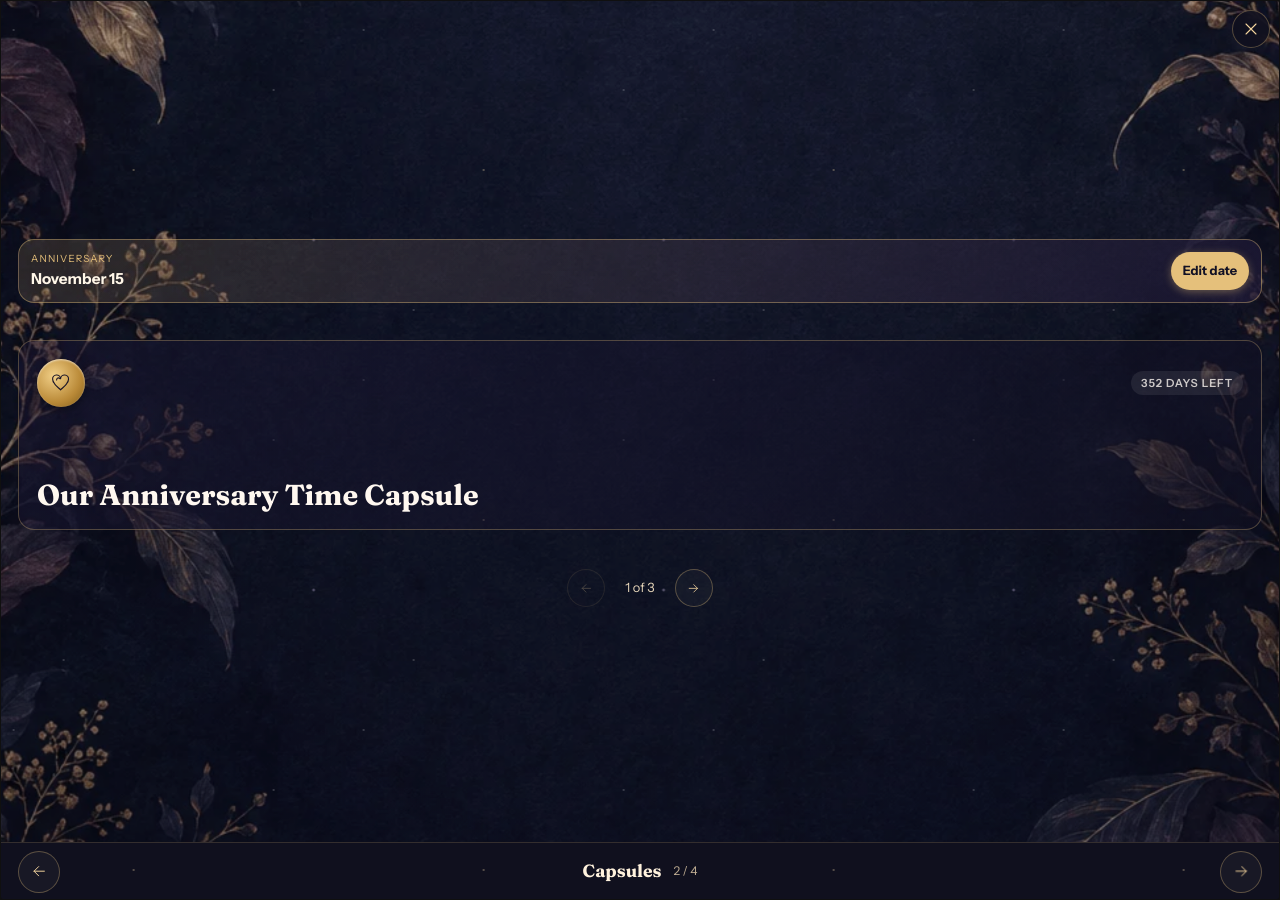
Scenario: MilestonesHub (Screen 7: Milestones & Year-in-Review Hub) › swipes the full page to the next Vault section from inside its current panel
Press the mouse on the element with class "time-capsule-card" at coordinates (640, 435), box [18,340,1262,530]
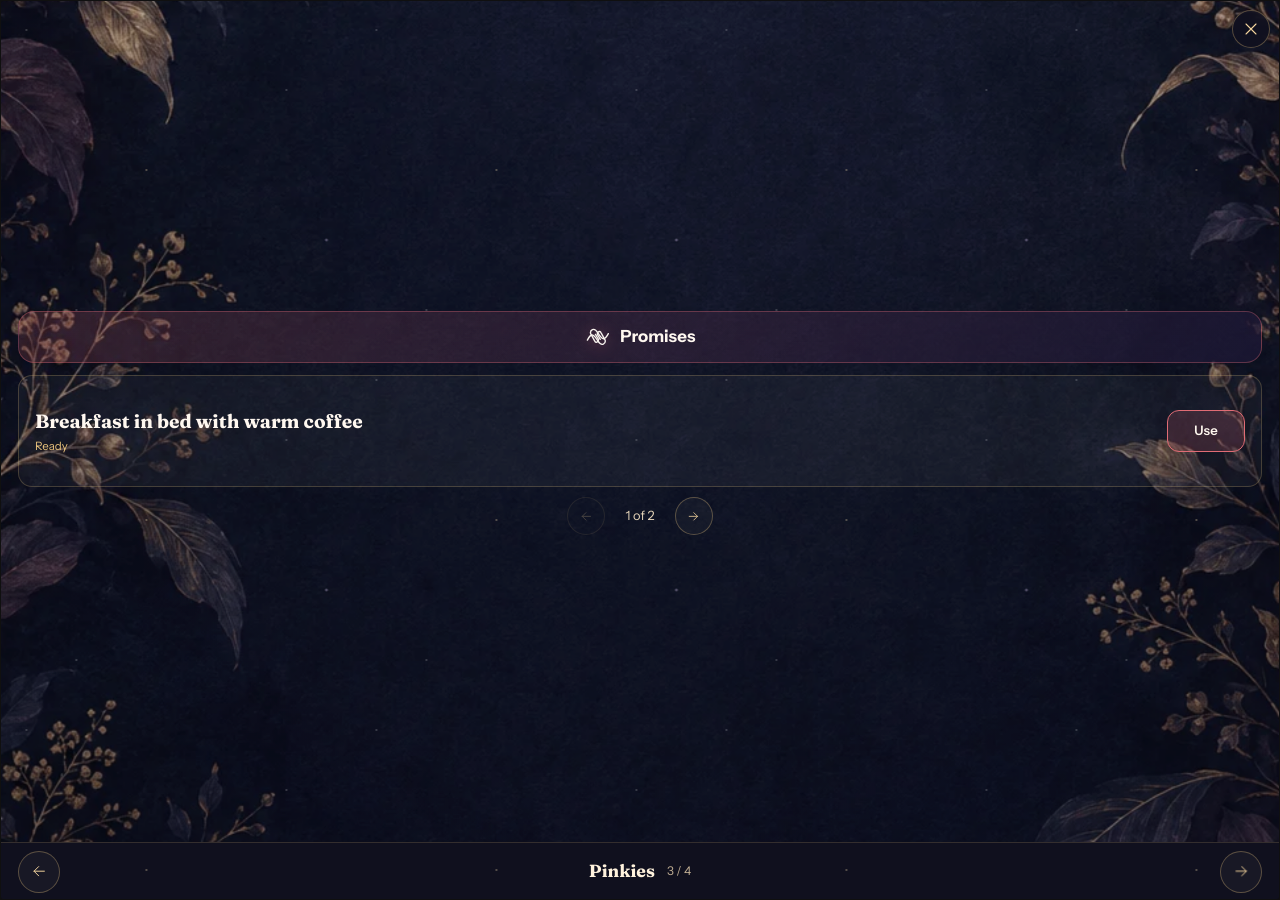
Result: the text "Pinkies" is shown at [589,858,655,885]
Result: the text "3 / 4" is shown at [667,862,691,880]
